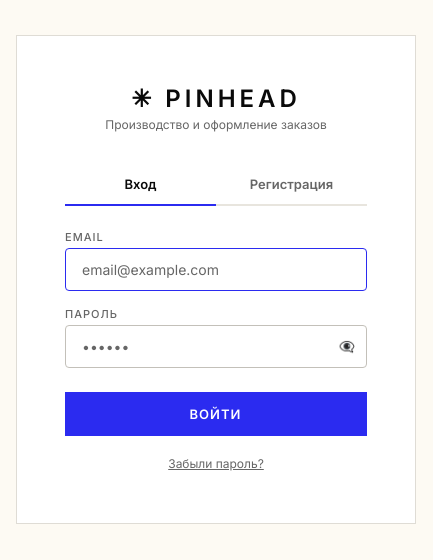
it: AuthScreen › switches to register tab
This screenshot has width=433, height=560.
What coordinates should you click on to do the following:
click the button "Регистрация"
I would click on:
 (292, 184)
Its box is [216,164,367,204].
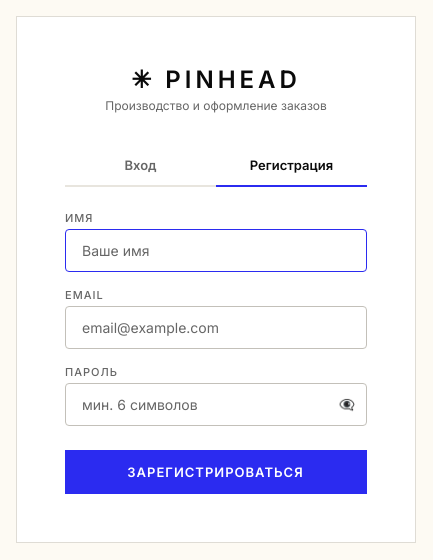
Expected: the button "Зарегистрироваться" is shown, [65,450,367,494]
Expected: the field with placeholder "Ваше имя" is shown, [65,228,367,272]
